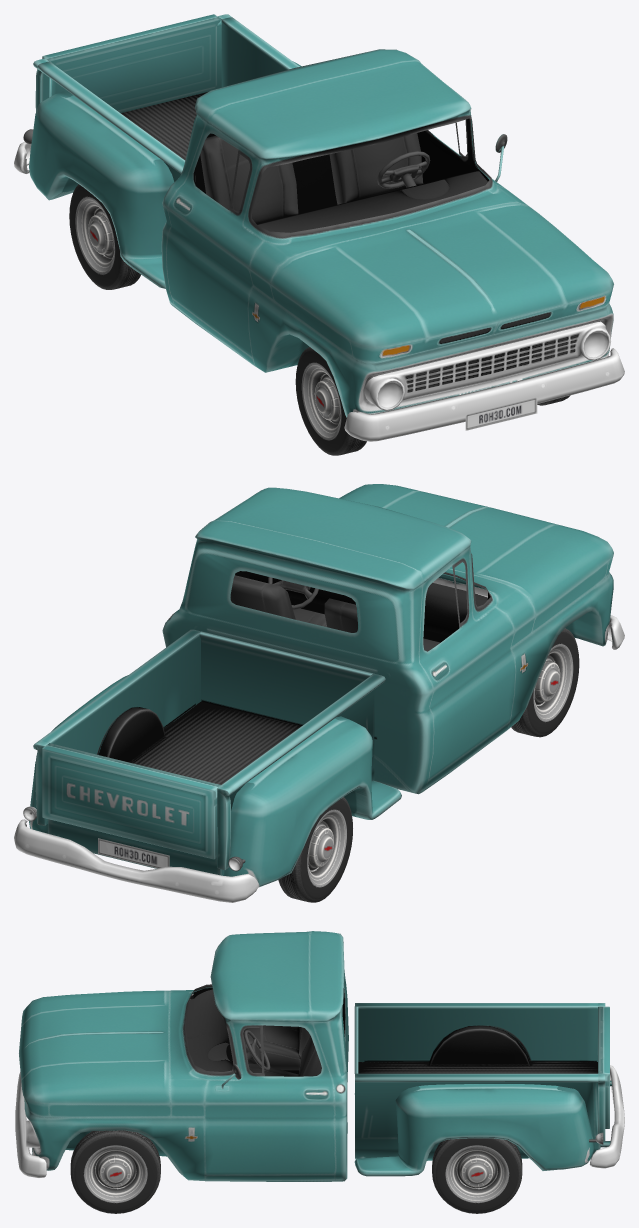
The model's file is quit.glb.
3 renders of one model, top to bottom at view 1: azimuth 30°, elevation 25°; view 2: azimuth 150°, elevation 25°; view 3: azimuth 270°, elevation 25°, orthographic. The views are drawn at different scales.
Parts seen in each view (by area): view 1: Object_4.001, Object_3; view 2: Object_4.001, Object_3; view 3: Object_4.001, Object_3.
Part boxes in pixels (<box>): Object_4.001: <box>14,14,624,441</box>; Object_3: <box>69,118,570,455</box>; Object_4.001: <box>14,484,624,902</box>; Object_3: <box>230,571,579,902</box>; Object_4.001: <box>15,931,624,1181</box>; Object_3: <box>70,988,522,1213</box>.
Bounding box in the file's own units: 3.18 × 2.71 × 7.4.
Materials: 2 (2 with a texture image).
